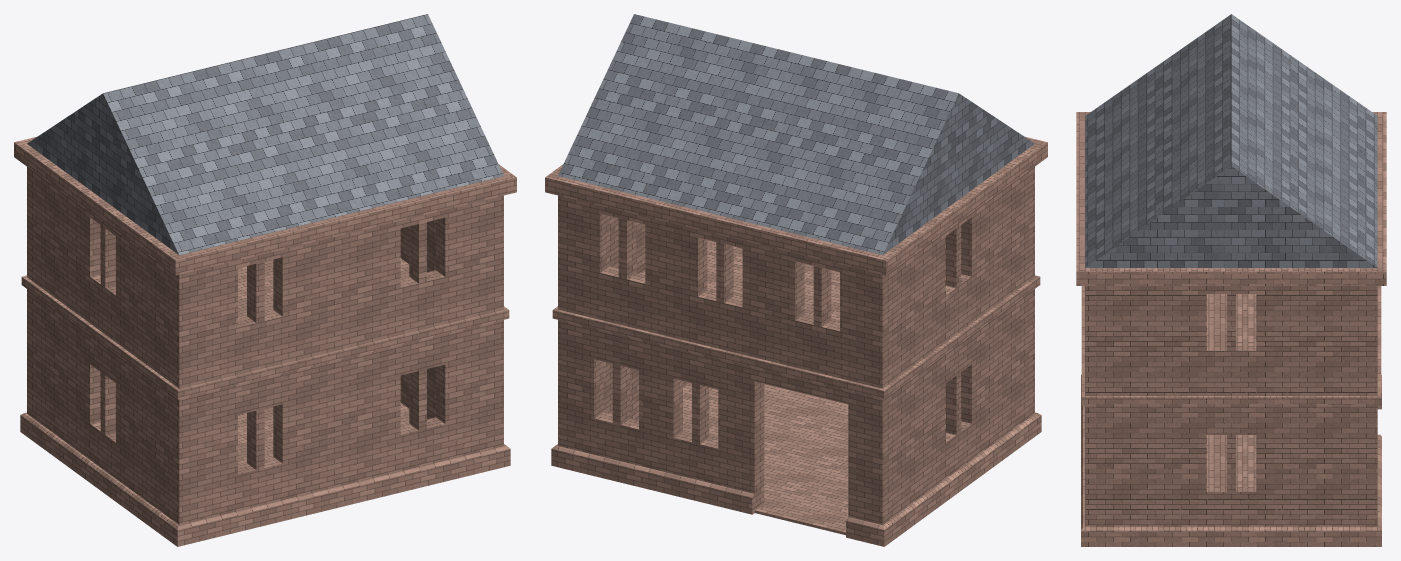
Rendered from house_b.glb.
3 views of the same model, side by side, from view 1: azimuth 30°, elevation 25°; view 2: azimuth 150°, elevation 25°; view 3: azimuth 270°, elevation 25° (orthographic). The views are drawn at different scales.
Parts seen in each view (by area): view 1: body_brick, roof_slate, trim_brick; view 2: body_brick, roof_slate, trim_brick; view 3: body_brick, roof_slate, trim_brick.
Boxes of the visible parts, x1,y1,x2,y2 form: body_brick: [27, 167, 503, 524]; roof_slate: [27, 14, 503, 255]; trim_brick: [14, 136, 516, 546]; body_brick: [558, 167, 1034, 535]; roof_slate: [558, 14, 1034, 255]; trim_brick: [545, 136, 1047, 546]; body_brick: [1085, 286, 1377, 526]; roof_slate: [1085, 14, 1377, 267]; trim_brick: [1076, 112, 1386, 546].
Size of the model in its own units: 8.4 by 9.3 by 6.9.
3 materials, 3 textured.
